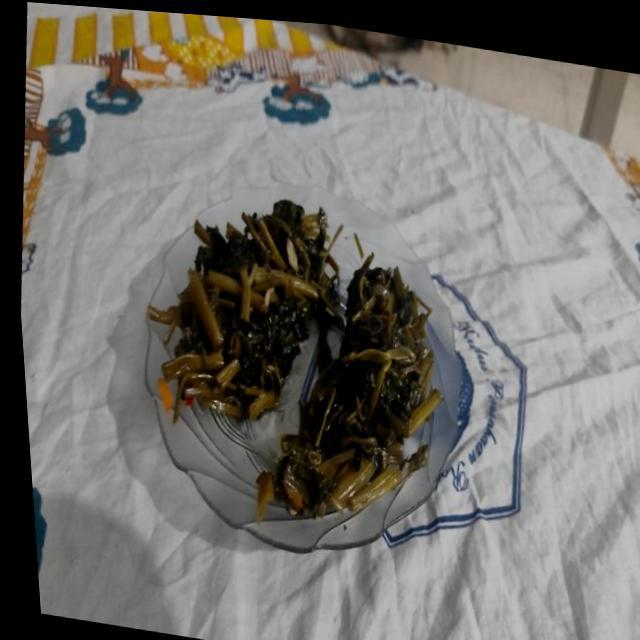tumis_kangkung: (268, 266, 442, 518), (162, 200, 340, 422)
